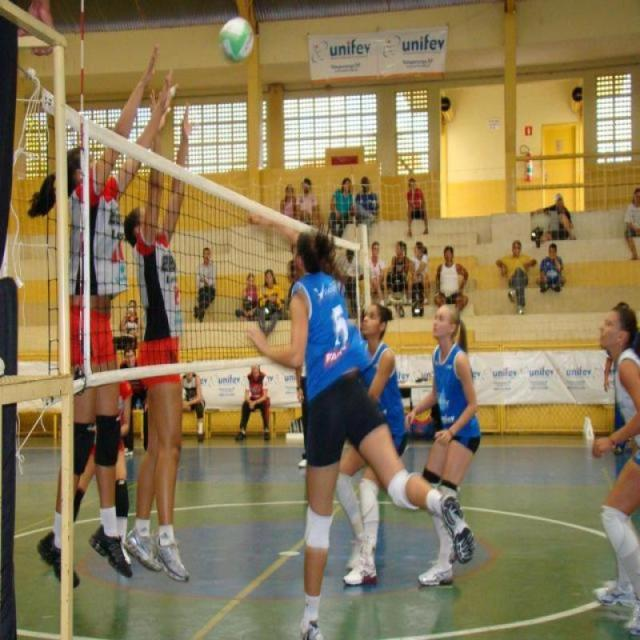volleyball: (217, 14, 255, 65)
